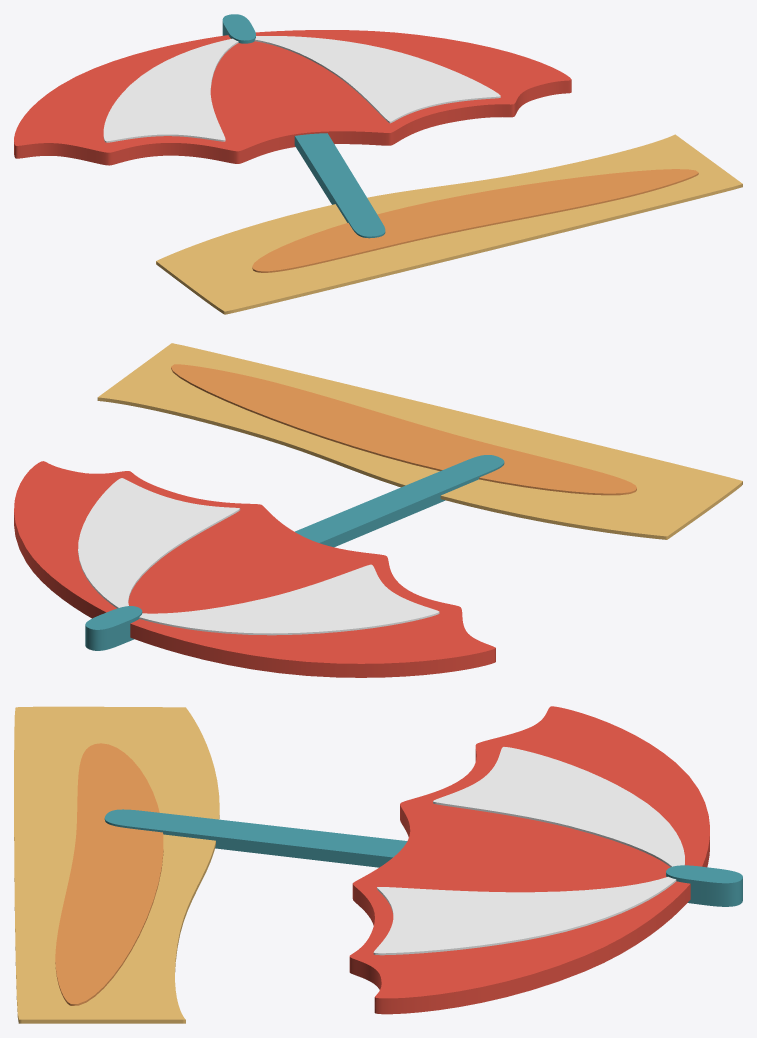
Rendered from emoji_u26f1.glb.
3 renders of one model, top to bottom at view 1: azimuth 30°, elevation 25°; view 2: azimuth 150°, elevation 25°; view 3: azimuth 270°, elevation 25°, orthographic. The views are drawn at different scales.
Parts seen in each view (by area): view 1: emoji_u26f1; view 2: emoji_u26f1; view 3: emoji_u26f1.
Part boxes in pixels (bbox=[...]): emoji_u26f1: bbox=[14, 14, 742, 314]; emoji_u26f1: bbox=[14, 343, 742, 677]; emoji_u26f1: bbox=[14, 706, 742, 1023].
Size of the model in its own units: 0.0341 by 0.0012 by 0.0335.
